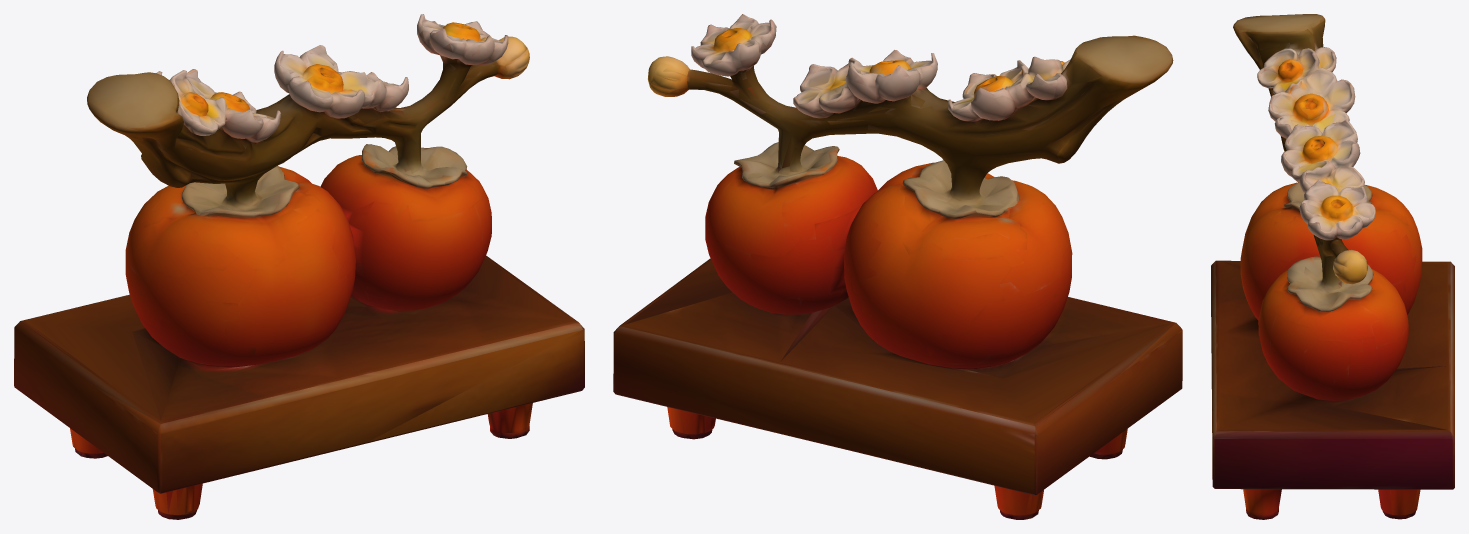
Rendered from 柿柿如意-Small.fbx.
3 views of the same model, side by side, from view 1: azimuth 30°, elevation 25°; view 2: azimuth 150°, elevation 25°; view 3: azimuth 270°, elevation 25° (orthographic). The views are drawn at different scales.
Visible parts, largest first — view 1: texture_pbr_v128; view 2: texture_pbr_v128; view 3: texture_pbr_v128.
Boxes of the visible parts, x1=… form: texture_pbr_v128: x1=14, y1=14, x2=584, y2=519; texture_pbr_v128: x1=613, y1=14, x2=1182, y2=519; texture_pbr_v128: x1=1211, y1=14, x2=1454, y2=519.
Size of the model in its own units: 91.92 by 78.55 by 49.68.
Materials: 1 (1 with a texture image).
